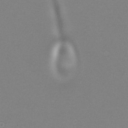normal: (48, 1, 68, 40)
